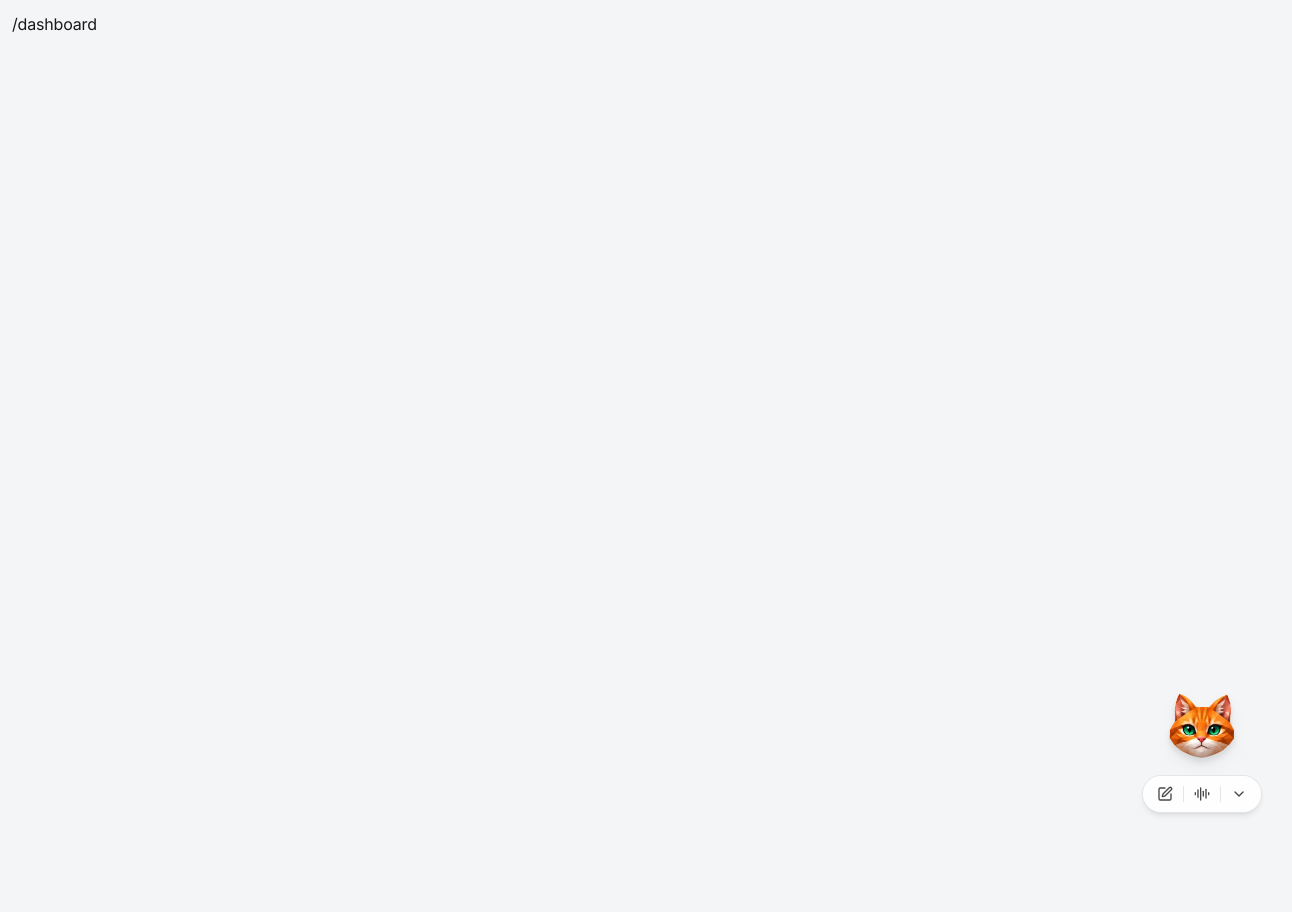
Test case: Pet MIMI › ô nhập: Esc hoặc bấm ra ngoài thì thu lại; nút + mở Trợ lý MIMI đầy đủ
The width and height of the screenshot is (1292, 912).
Click the button named "Gõ để hỏi Trợ lý MIMI".
click(1165, 794)  # box [1147,778,1183,810]
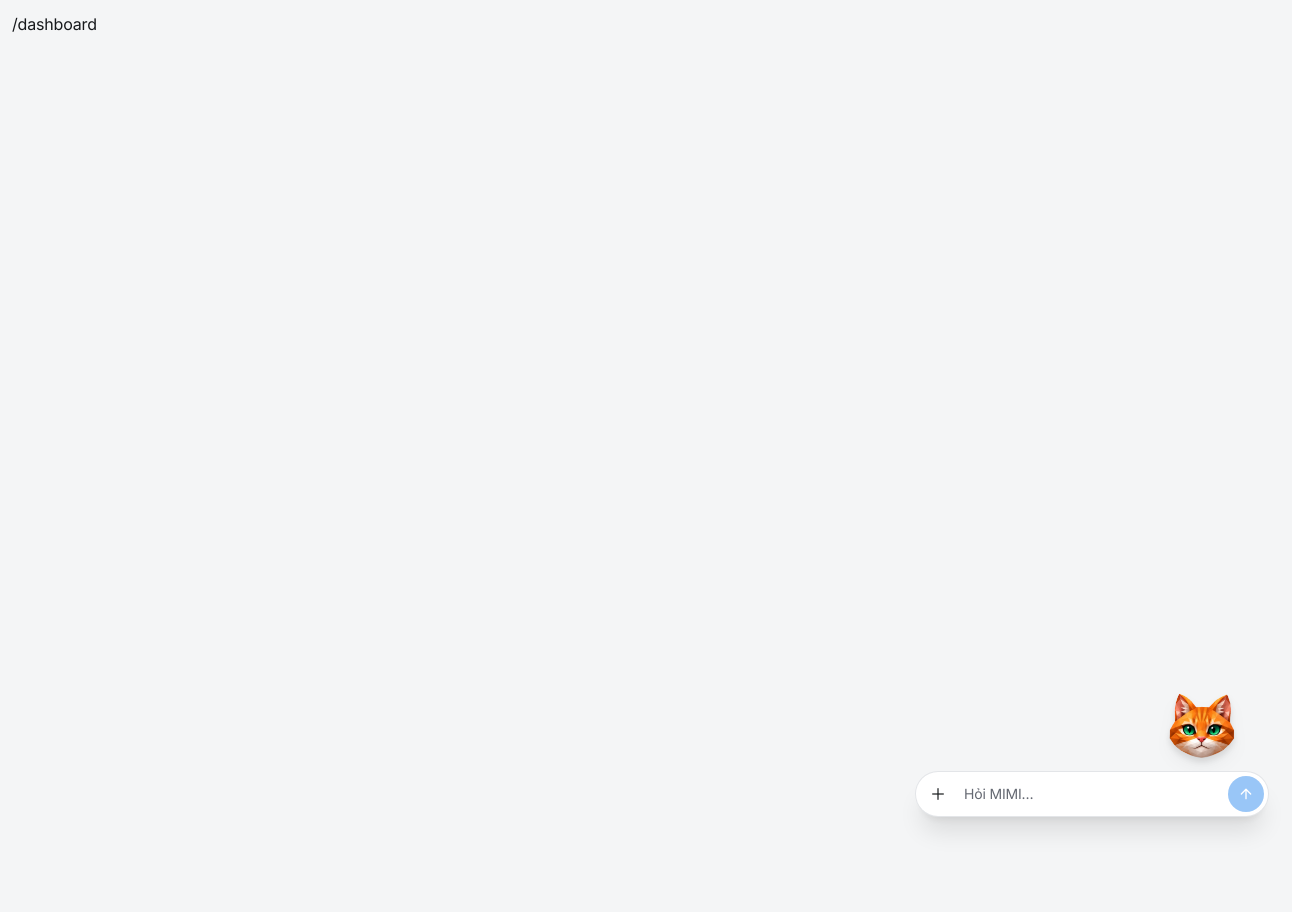
Press Escape in the field labelled "Hỏi MIMI", box [960,784,1224,804]
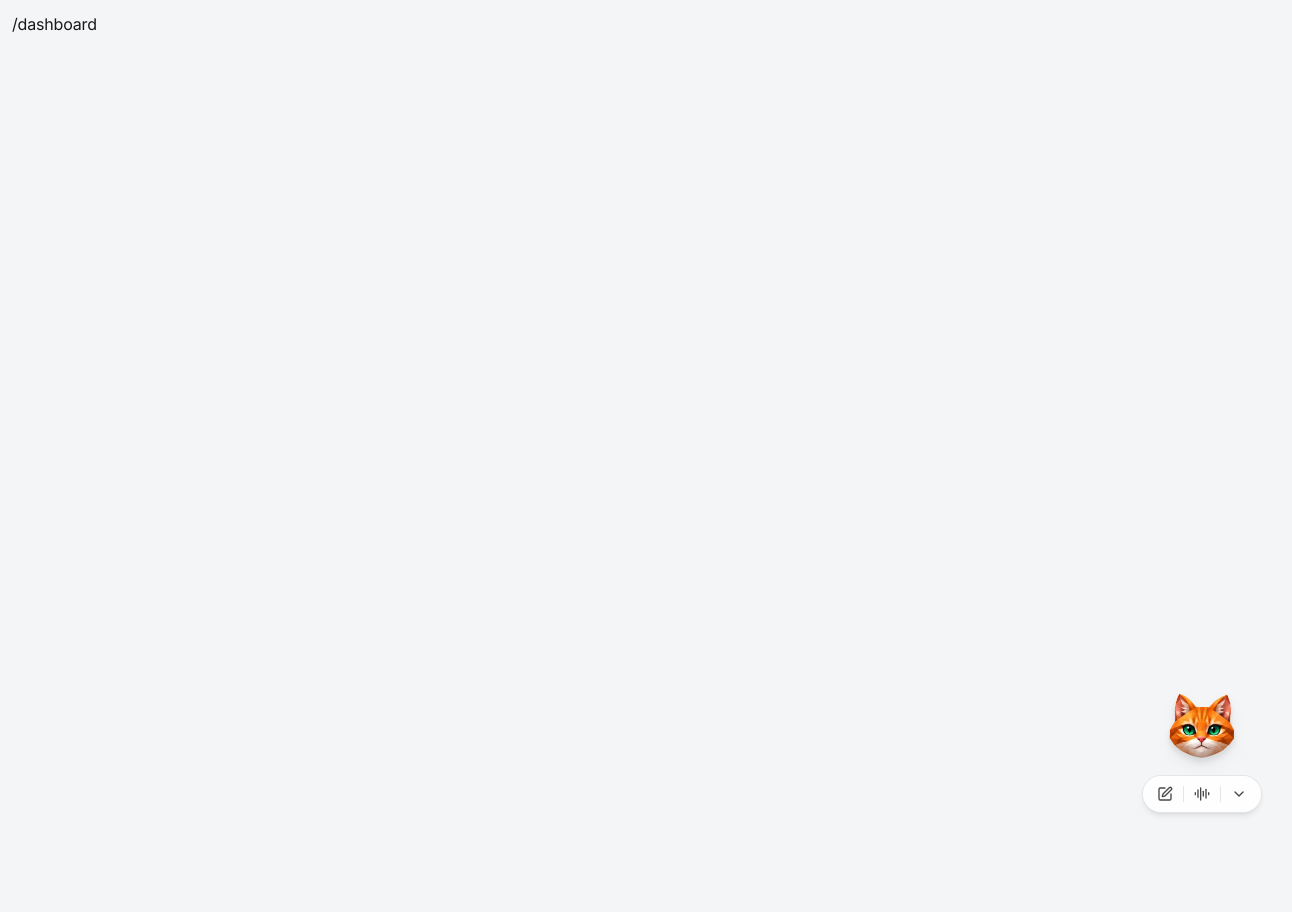
Expected: the field labelled "Hỏi MIMI" is not shown
Click the button named "Gõ để hỏi Trợ lý MIMI".
click(1165, 794)  # box [1147,778,1183,810]
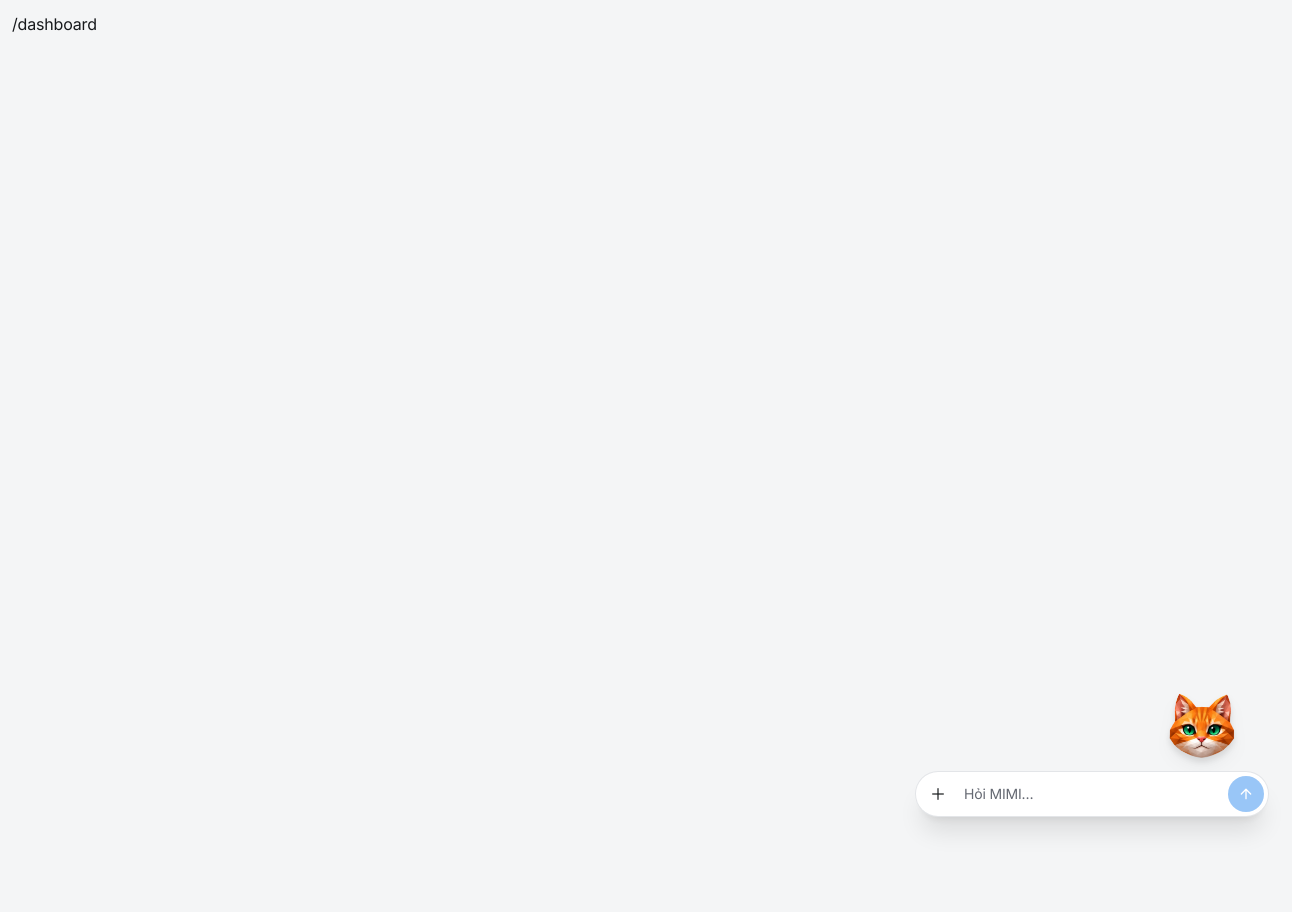
Expected: the field labelled "Hỏi MIMI" is shown, [960,784,1224,804]
Press the mouse on the element showing "/dashboard" at point(652, 24), box [12,12,1291,36]
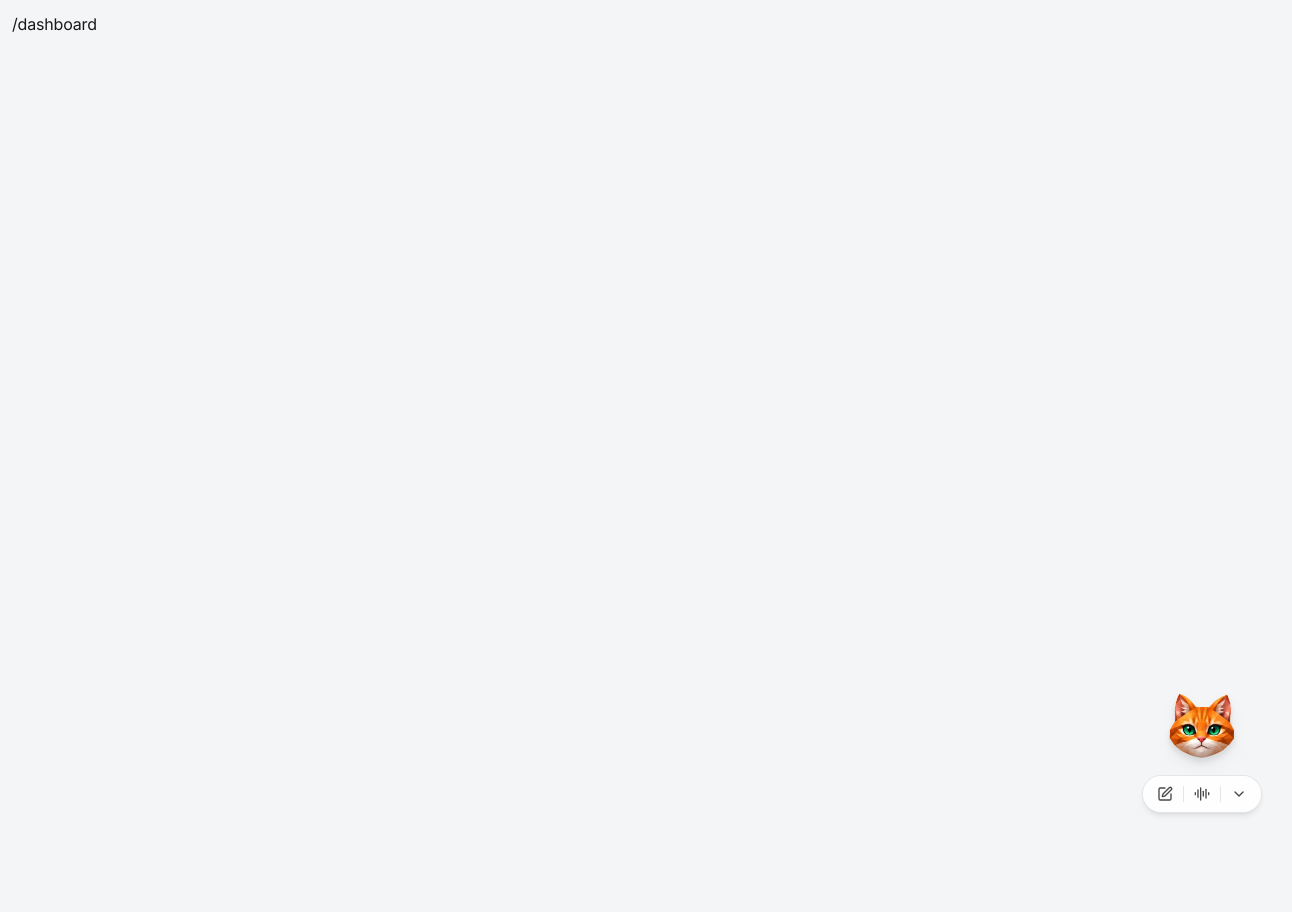
Expected: the field labelled "Hỏi MIMI" is not shown
Click the button named "Gõ để hỏi Trợ lý MIMI".
click(1165, 794)  # box [1147,778,1183,810]
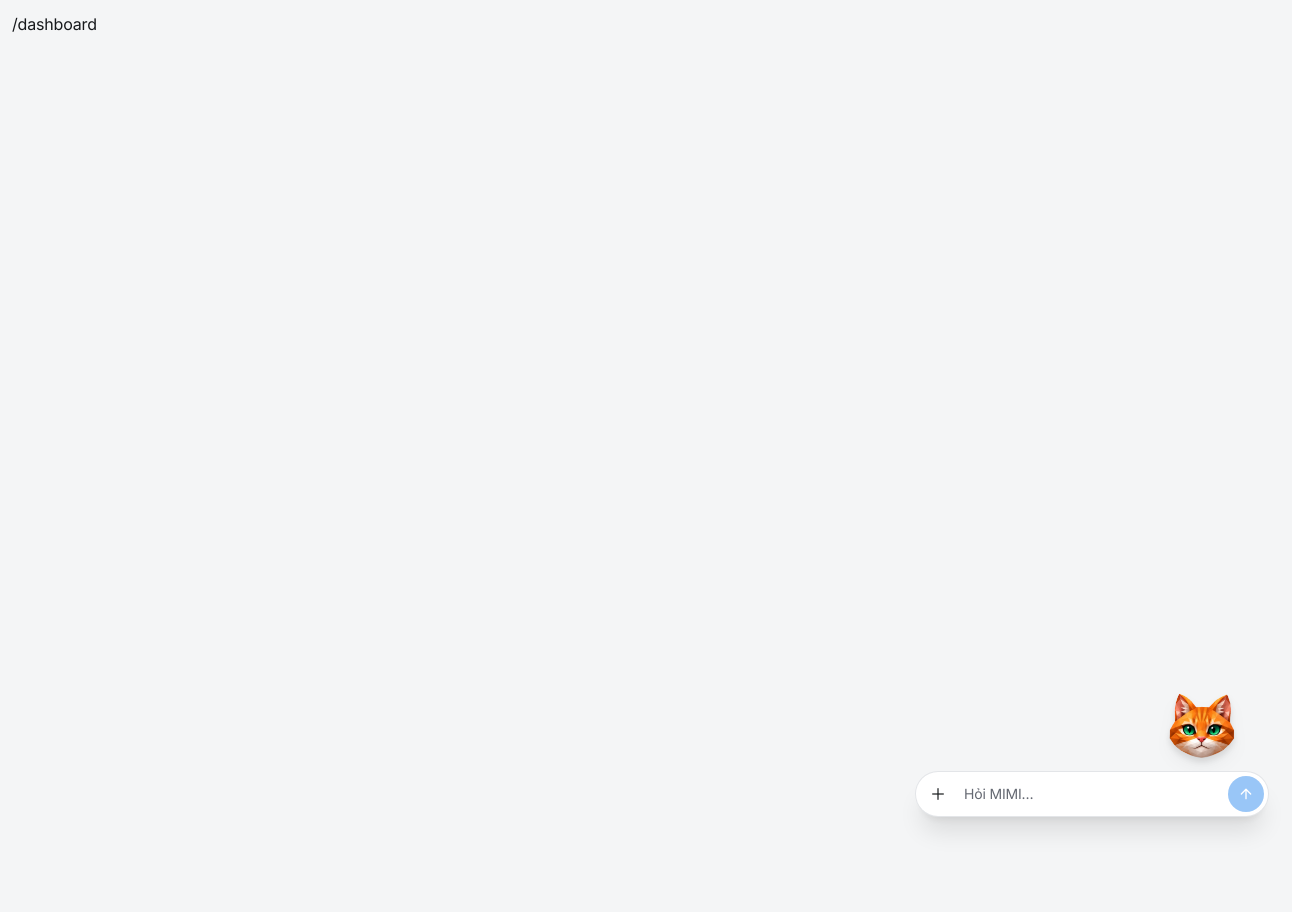
Click the button named "Mở Trợ lý MIMI đầy đủ".
click(938, 794)  # box [920,776,956,812]
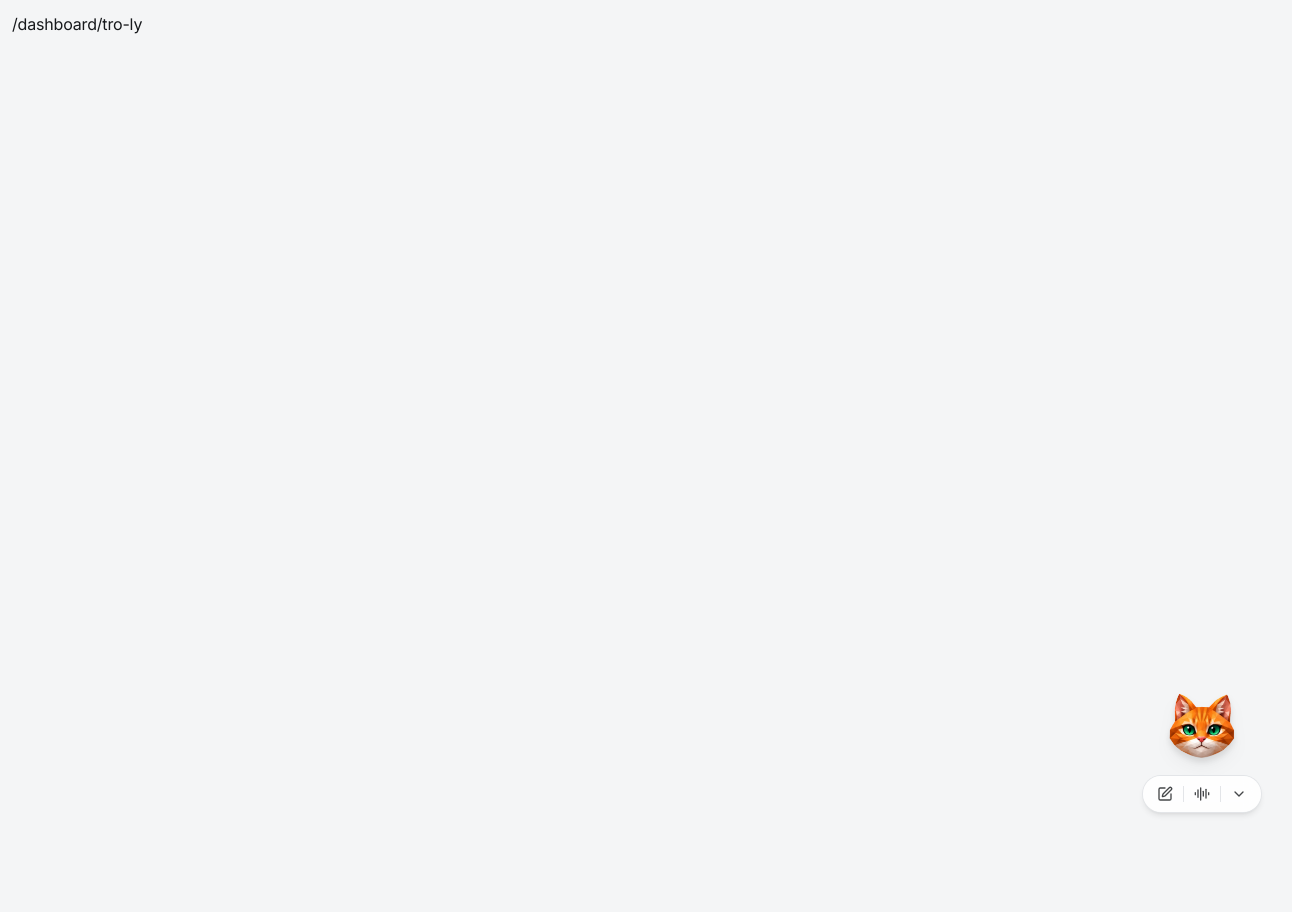
Expected: the text with test id "dia-chi" reads "/dashboard/tro-ly", [12,14,142,34]
